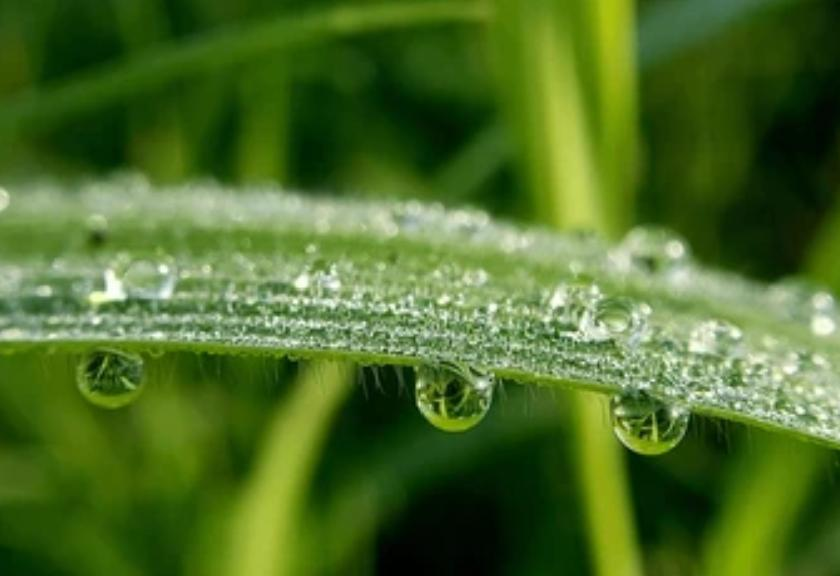water drop: (414, 363, 492, 433), (608, 389, 689, 454), (75, 348, 144, 411)
